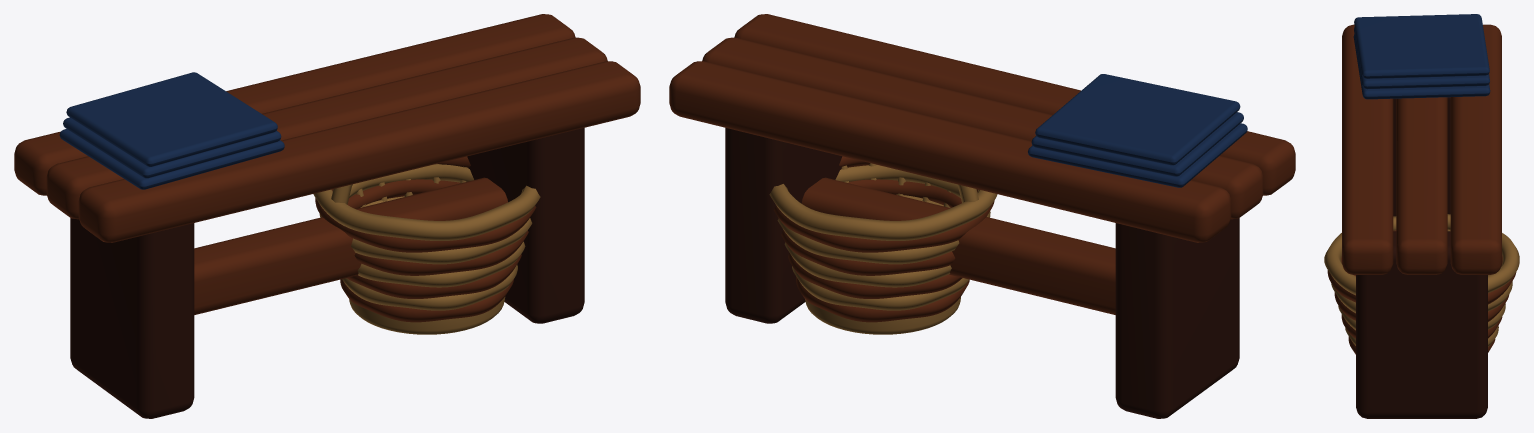
Rendered from 04_Bench_With_Basket.obj.
The picture shows the model from 3 angles, left to right: view 1: azimuth 30°, elevation 25°; view 2: azimuth 150°, elevation 25°; view 3: azimuth 270°, elevation 25°; orthographic projection. The views are drawn at different scales.
Parts seen in each view (by area): view 1: Cedar_seat_plank, Bench_leg, Brace, Bench_leg.001, Cedar_seat_plank.001, Cedar_seat_plank.002, Folded_indigo_cloth.002, Basket_weave.007, Basket_weave.005, Basket_weave.004, Folded_indigo_cloth, Basket_weave.006 (+6 smaller); view 2: Cedar_seat_plank.002, Bench_leg, Brace, Bench_leg.001, Cedar_seat_plank.001, Cedar_seat_plank, Folded_indigo_cloth.002, Basket_weave.007, Basket_weave.005, Basket_weave.004, Folded_indigo_cloth, Basket_weave.006 (+6 smaller); view 3: Bench_leg.001, Cedar_seat_plank.002, Cedar_seat_plank, Cedar_seat_plank.001, Folded_indigo_cloth.002, Basket_weave.007, Folded_indigo_cloth, Folded_indigo_cloth.001, Bench_leg, Basket_weave.006, Basket_weave.005, Basket_weave.004 (+2 smaller).
Boxes of the visible parts, box(x1,y1,x2,y2) form: Cedar_seat_plank: box(78, 61, 640, 242); Bench_leg: box(70, 218, 194, 418); Brace: box(194, 177, 507, 314); Bench_leg.001: box(467, 128, 584, 323); Cedar_seat_plank.001: box(46, 37, 607, 219); Cedar_seat_plank.002: box(14, 14, 575, 195); Folded_indigo_cloth.002: box(66, 72, 277, 166); Basket_weave.007: box(313, 185, 540, 240); Basket_weave.005: box(319, 164, 532, 264); Basket_weave.004: box(347, 179, 528, 275); Folded_indigo_cloth: box(59, 129, 284, 189); Basket_weave.006: box(315, 156, 536, 252); Cedar_seat_plank.002: box(669, 61, 1231, 242); Bench_leg: box(1115, 218, 1239, 418); Brace: box(801, 177, 1115, 314); Bench_leg.001: box(725, 128, 842, 323); Cedar_seat_plank.001: box(702, 37, 1263, 219); Cedar_seat_plank: box(734, 14, 1295, 195); Folded_indigo_cloth.002: box(1035, 74, 1240, 165); Basket_weave.007: box(769, 184, 997, 240); Basket_weave.005: box(777, 165, 990, 264); Basket_weave.004: box(781, 179, 961, 275); Folded_indigo_cloth: box(1028, 123, 1247, 187); Basket_weave.006: box(773, 156, 994, 252); Bench_leg.001: box(1356, 231, 1487, 418); Cedar_seat_plank.002: box(1450, 24, 1501, 274); Cedar_seat_plank: box(1342, 24, 1393, 274); Cedar_seat_plank.001: box(1396, 97, 1447, 274); Folded_indigo_cloth.002: box(1354, 14, 1489, 78); Basket_weave.007: box(1324, 214, 1519, 295); Folded_indigo_cloth: box(1353, 34, 1490, 99); Folded_indigo_cloth.001: box(1354, 27, 1489, 89); Bench_leg: box(1393, 97, 1450, 216); Basket_weave.006: box(1327, 230, 1516, 304); Basket_weave.005: box(1331, 281, 1512, 313); Basket_weave.004: box(1334, 275, 1509, 321).
Size of the model in its own units: 1.36 by 0.639 by 0.504.
